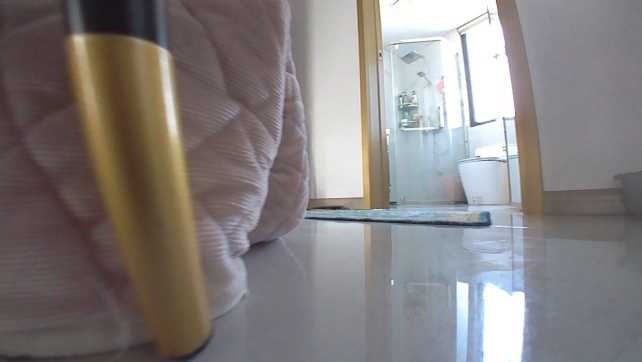blanket: (295, 202, 493, 226)
toilet: (455, 139, 509, 206)
